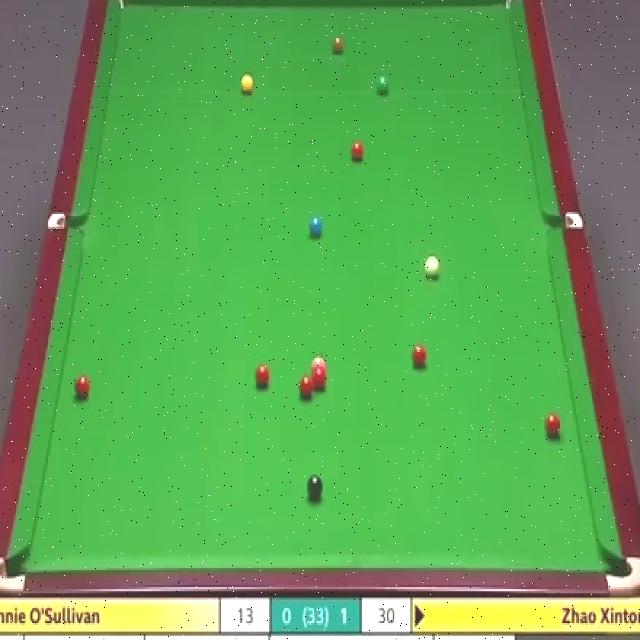black-ball: (308, 474, 324, 500)
blue-ball: (307, 214, 323, 238)
brown-ball: (332, 34, 345, 54)
green-ball: (375, 74, 389, 95)
pink-ball: (308, 356, 326, 371)
red-ball: (254, 361, 272, 390), (72, 374, 90, 400), (545, 411, 561, 438), (298, 376, 314, 401), (412, 343, 427, 368), (310, 368, 327, 389), (350, 140, 364, 162)
white-ball: (424, 253, 442, 280)
yellow-ball: (240, 72, 254, 94)
